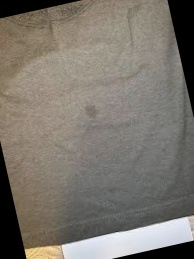oil: (75, 97, 107, 134)
